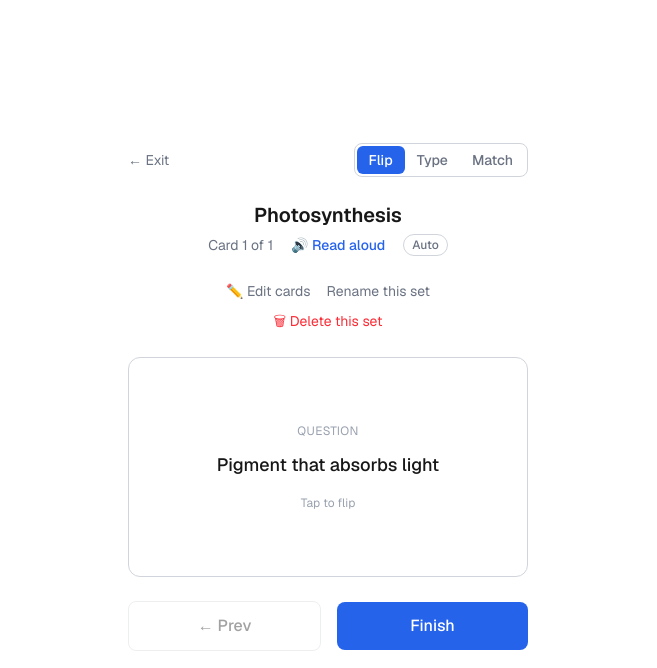
Test: study set page › lets the owner edit cards and shows the saved cards afterwards
Click the button "✏️ Edit cards": x=268, y=291 left=226, top=281, right=310, bottom=301
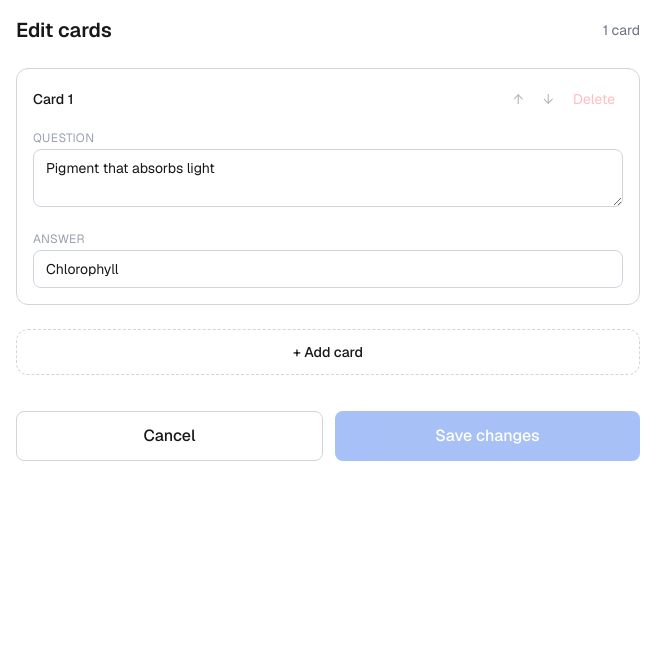
Expected: the heading "Edit cards" is shown, left=16, top=16, right=112, bottom=44
Replace the text in the text box labelled "Question" with "Green pigment that absorbs light": x=328, y=178 left=33, top=149, right=623, bottom=207
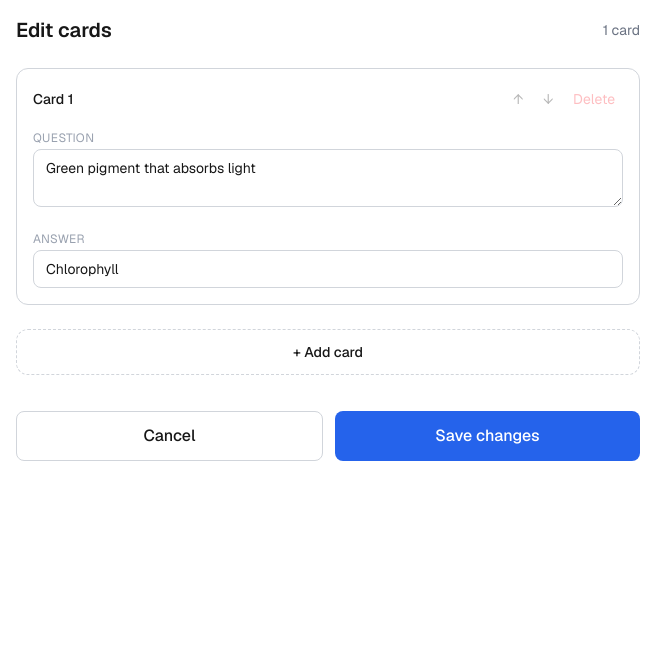
Click the button "Save changes": x=488, y=436 left=335, top=411, right=640, bottom=461
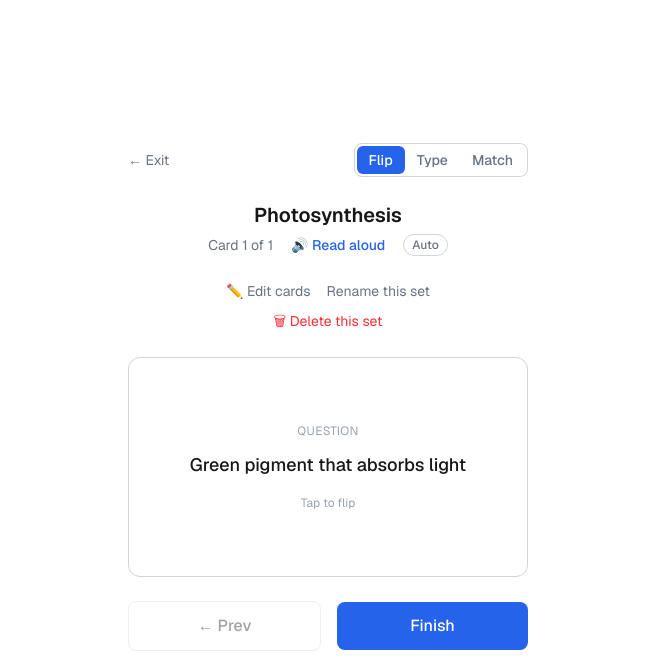
Expected: the text "Green pigment that absorbs light" is shown, left=190, top=451, right=466, bottom=479
